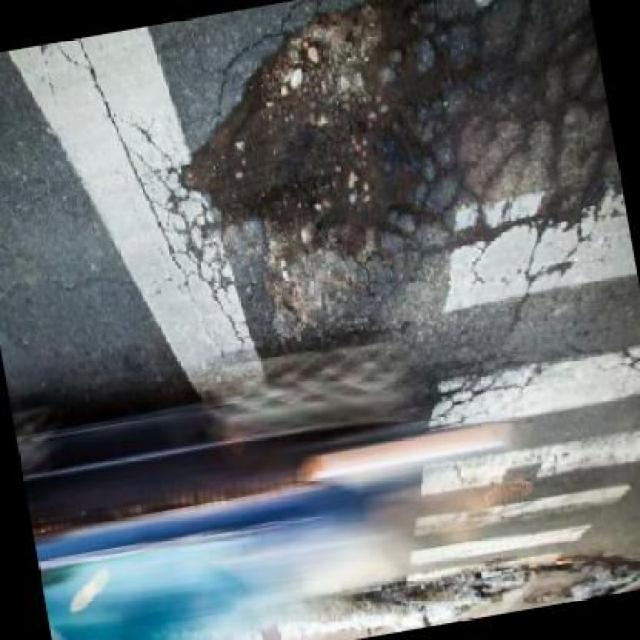pothole: (163, 0, 474, 283)
